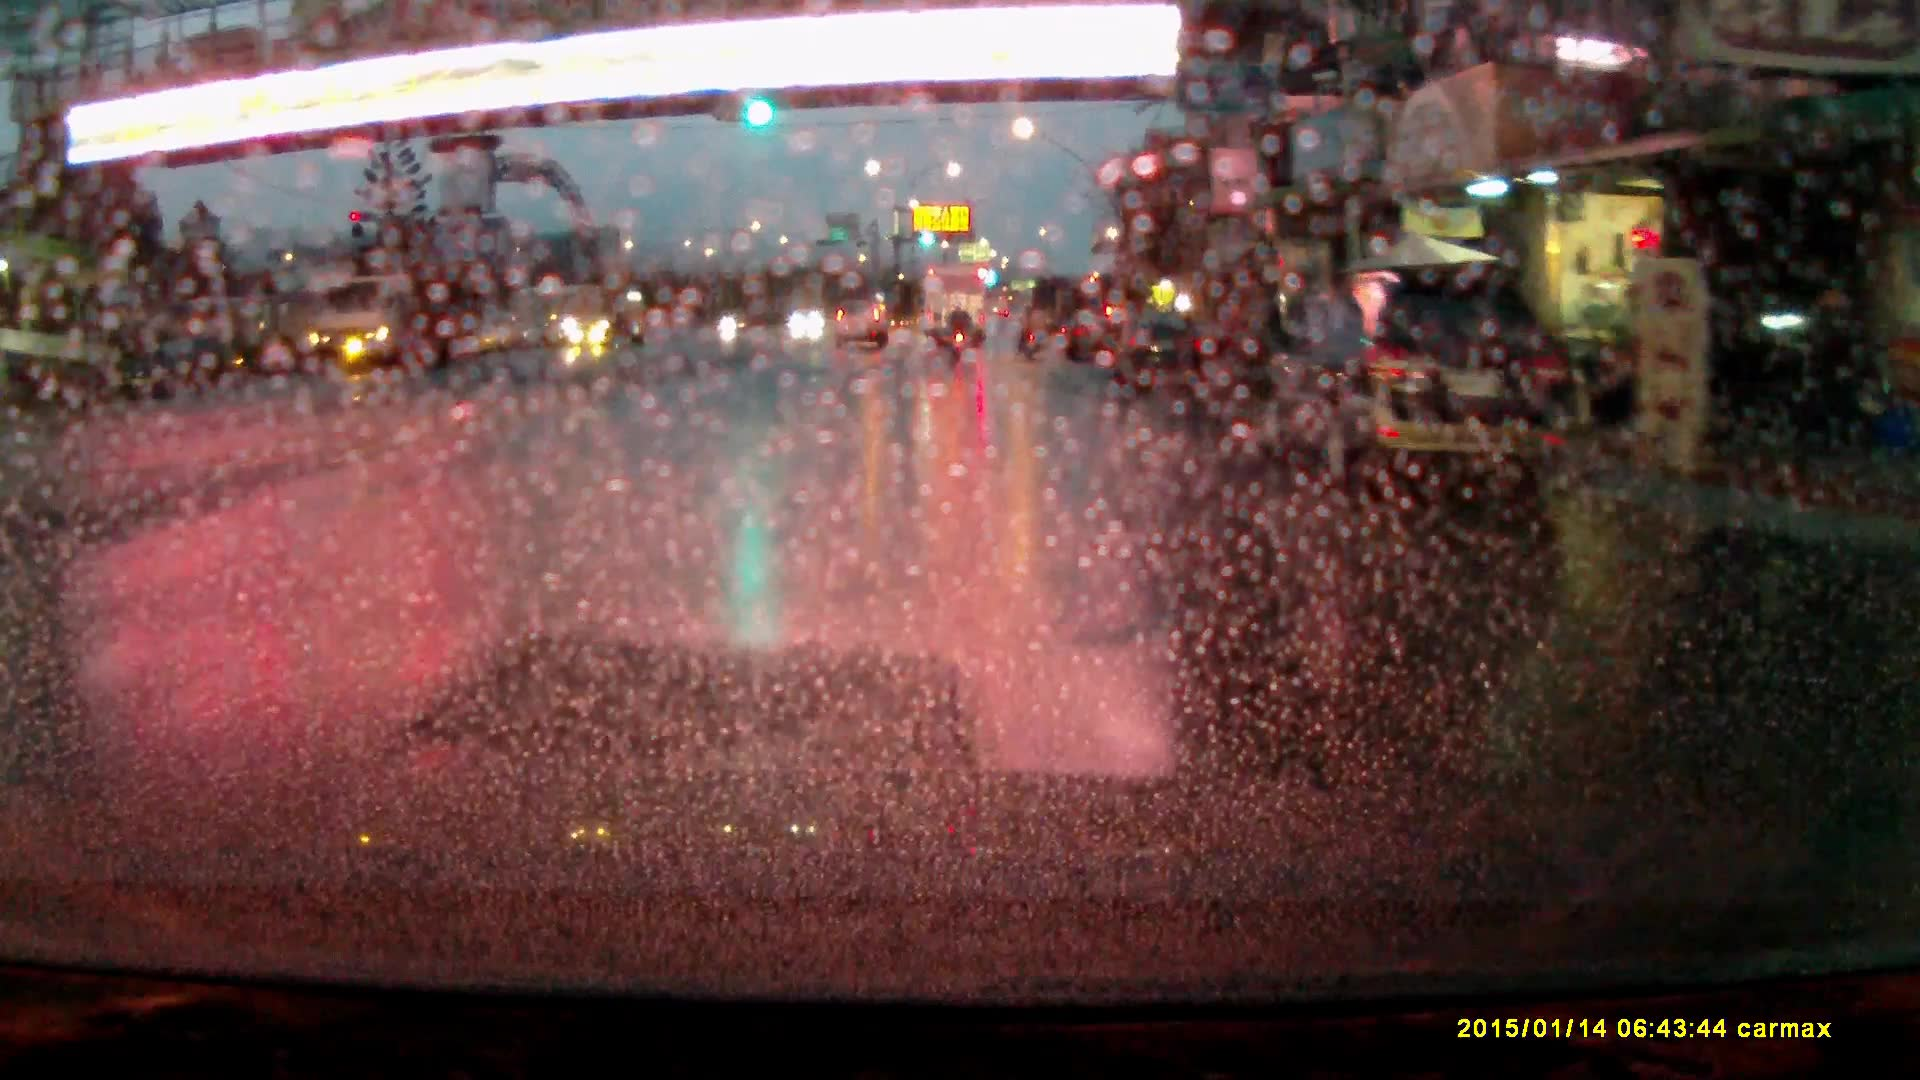rider: (948, 297, 974, 355)
vehicle: (1258, 262, 1579, 490), (1712, 286, 1871, 439), (302, 275, 466, 376), (1110, 308, 1208, 390), (560, 289, 654, 349), (921, 267, 991, 345), (1062, 308, 1129, 364), (833, 278, 889, 326)
